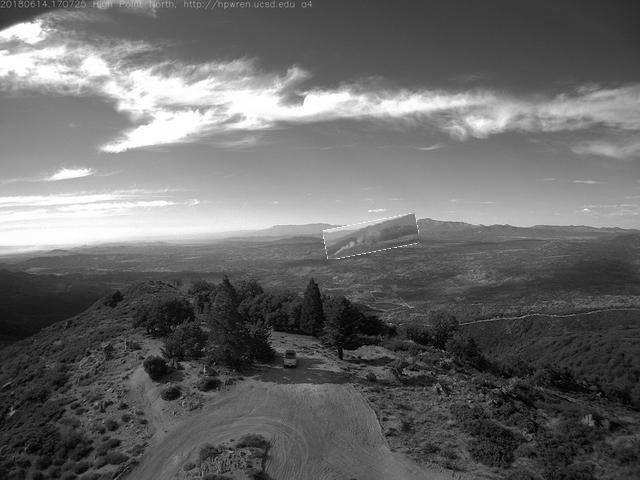smoke: (325, 219, 421, 257)
